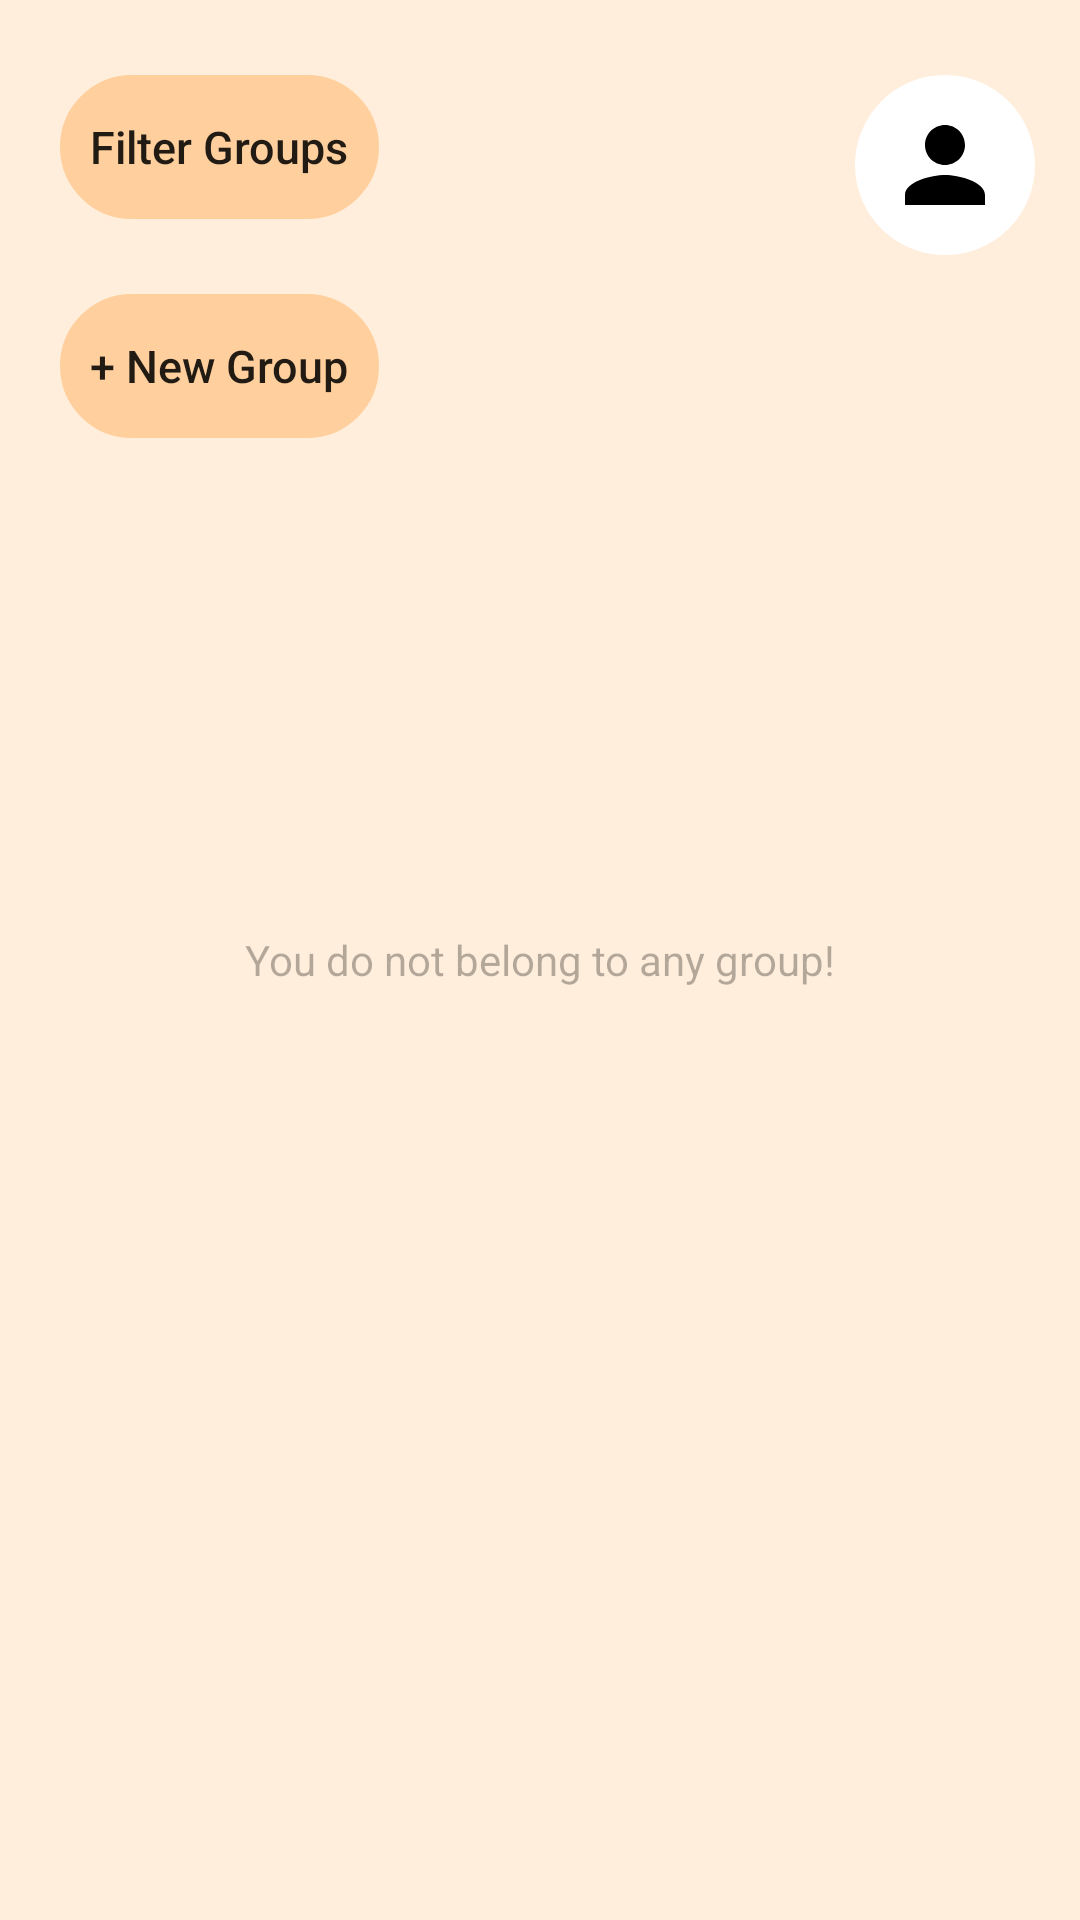

Screen size 1080 × 1920. Icon name, then its box in pixels as [x1, y1, x2, y2]:
person: [855, 75, 1035, 255]
